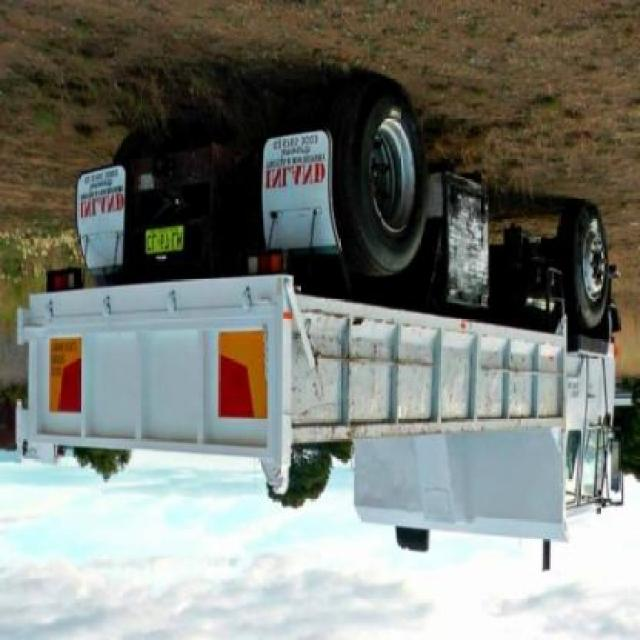truck: (19, 81, 625, 535)
